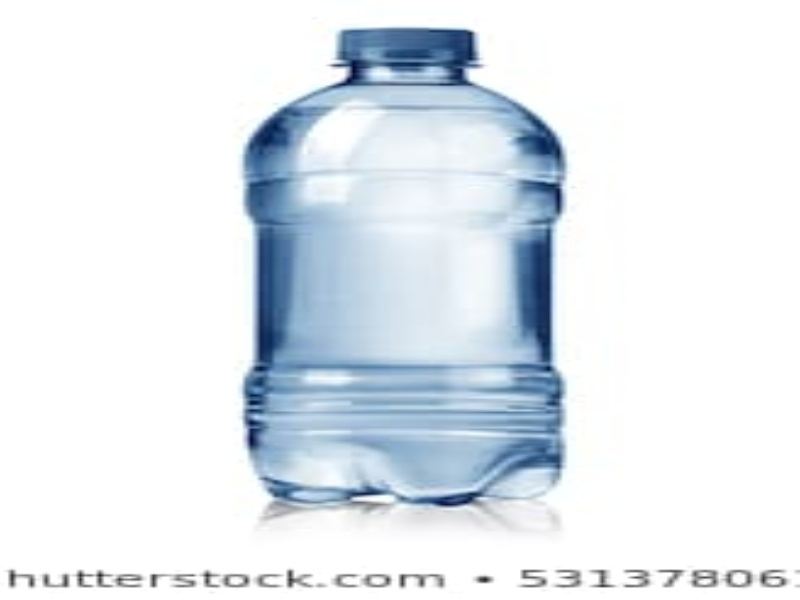plastic-bottle: (229, 18, 579, 502)
